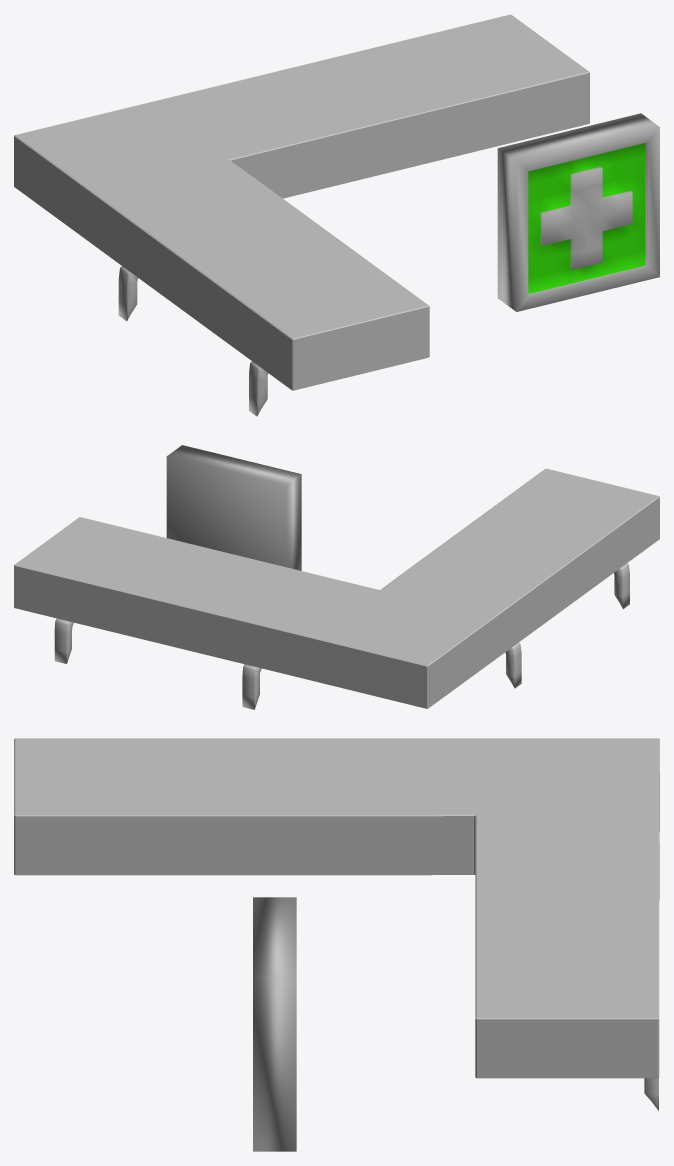
Rendered from HealthFurniture.fbx.
The picture shows the model from 3 angles, top to bottom: view 1: azimuth 30°, elevation 25°; view 2: azimuth 150°, elevation 25°; view 3: azimuth 270°, elevation 25°; orthographic projection. The views are drawn at different scales.
Visible parts, largest first — view 1: Rack, Label; view 2: Rack, Label; view 3: Rack, Label.
Boxes of the visible parts, x1,y1,x2,y2 form: Rack: (14,14,589,416); Label: (497,113,659,311); Rack: (14,468,659,709); Label: (166,445,301,570); Rack: (14,738,659,1110); Label: (253,897,296,1151).
Size of the model in its own units: 163 by 46.87 by 158.
